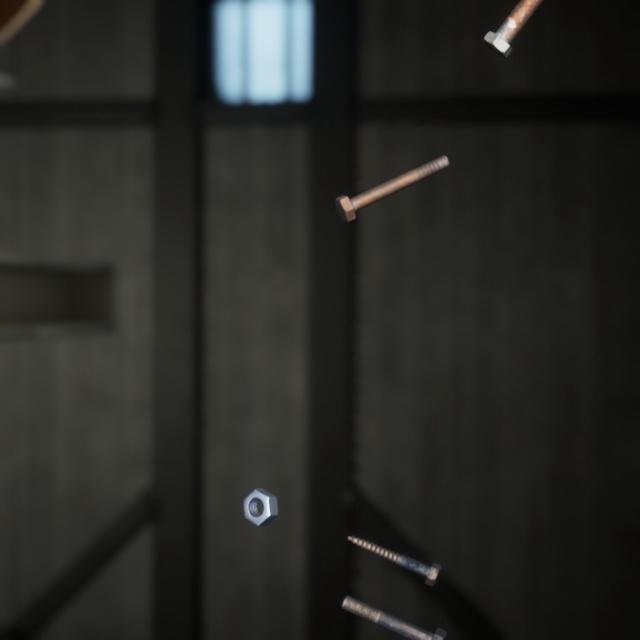bolt: (330, 137, 454, 212), (336, 568, 451, 640), (343, 509, 446, 569), (479, 0, 543, 56)
nut: (238, 462, 282, 508)
